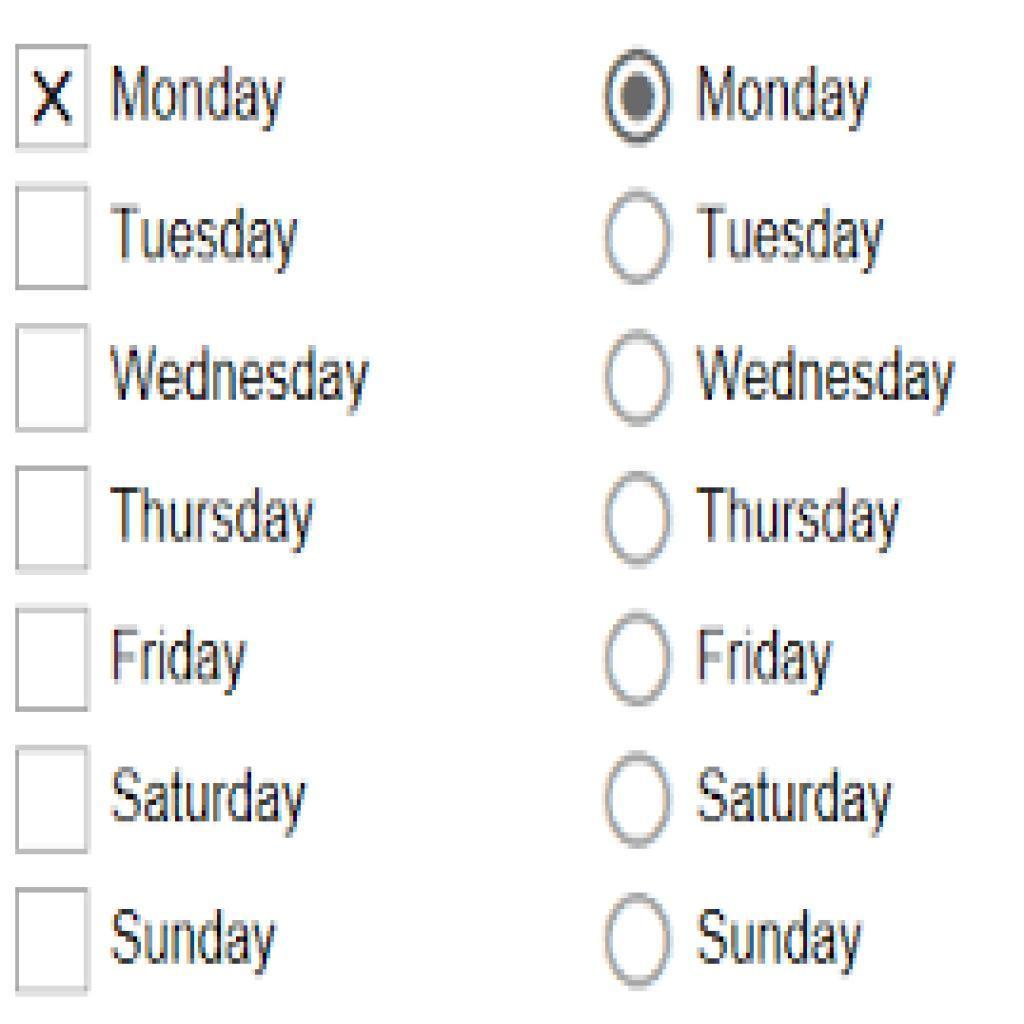checkbox: (13, 886, 94, 1002), (13, 604, 95, 718), (13, 745, 94, 859), (13, 466, 95, 577), (14, 182, 94, 293), (14, 44, 92, 157), (15, 327, 95, 436)
radio: (600, 457, 680, 580), (602, 602, 680, 716), (598, 47, 679, 155), (602, 889, 677, 1003), (599, 187, 677, 295), (602, 748, 679, 857), (604, 324, 677, 431)
